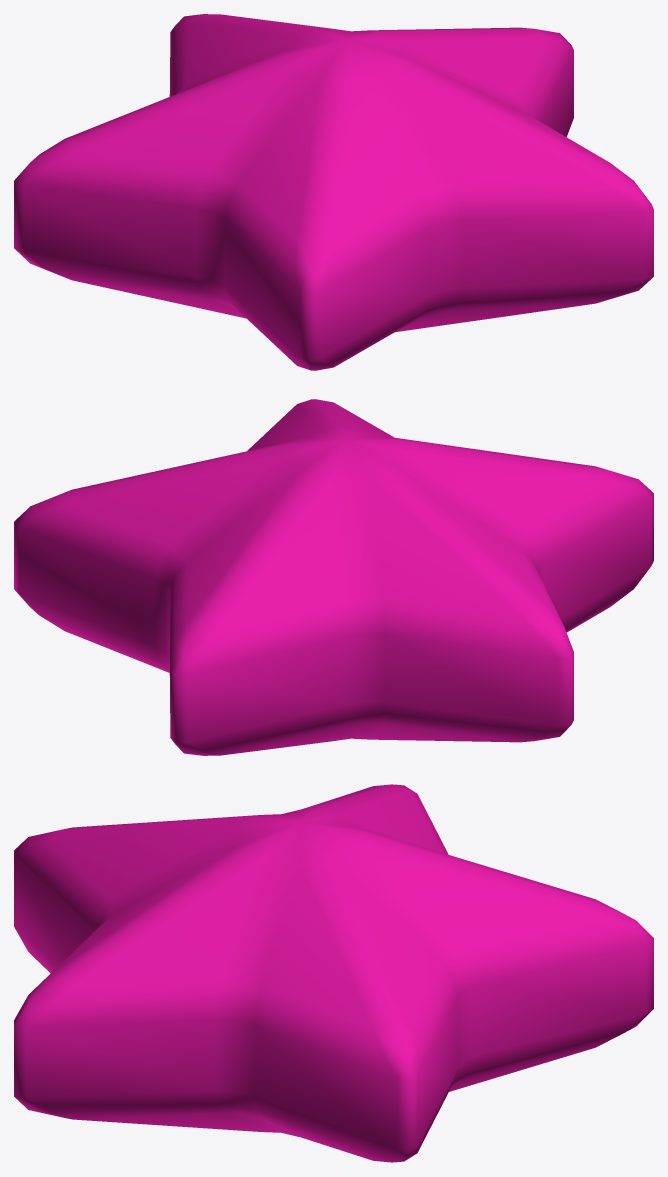
File: etoile_pink.glb
The picture shows the model from 3 angles, top to bottom: view 1: azimuth 30°, elevation 25°; view 2: azimuth 150°, elevation 25°; view 3: azimuth 270°, elevation 25°; orthographic projection. The views are drawn at different scales.
Parts seen in each view (by area): view 1: Cylinder.002; view 2: Cylinder.002; view 3: Cylinder.002.
Part boxes in pixels (x1=…): Cylinder.002: x1=14, y1=14, x2=653, y2=370; Cylinder.002: x1=14, y1=399, x2=653, y2=755; Cylinder.002: x1=14, y1=784, x2=653, y2=1162.
Size of the model in its own units: 1.84 by 0.9202 by 1.75.
